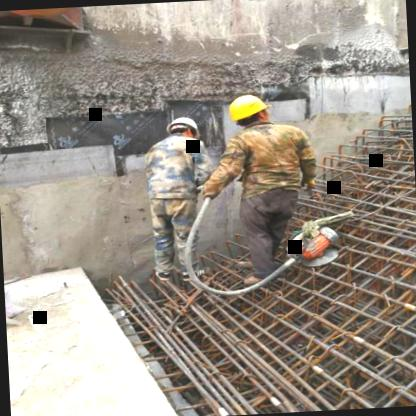helmet: (225, 90, 274, 133), (162, 113, 204, 148)
